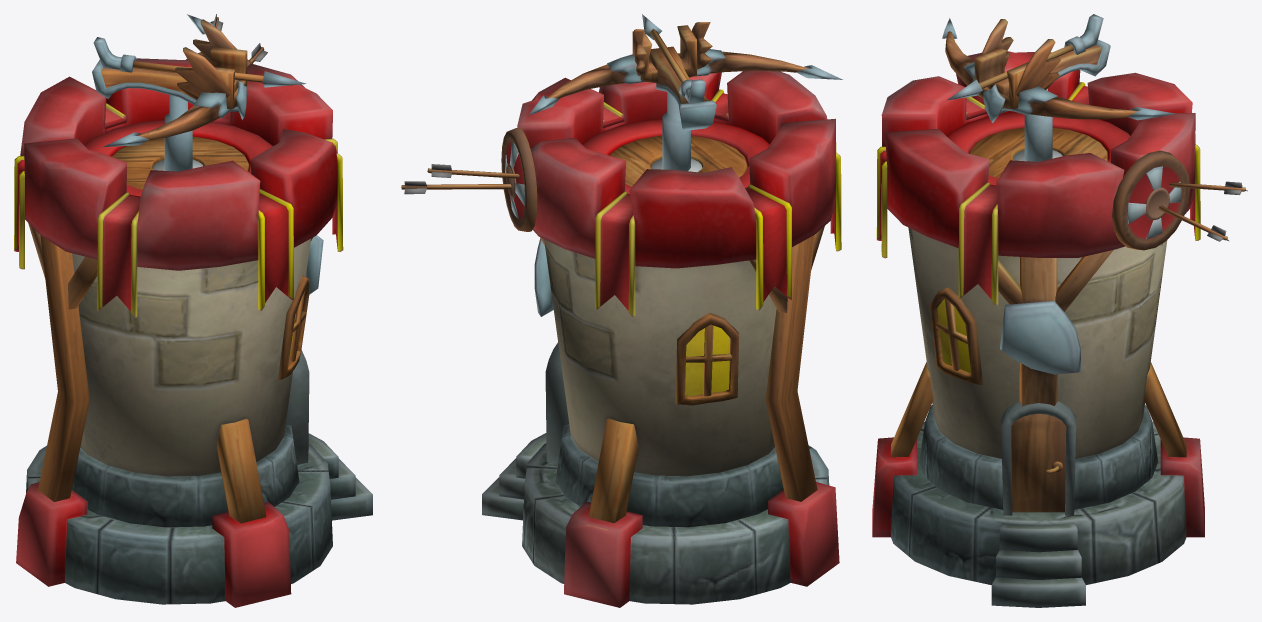
The model's file is MOD_ArcherTower_SinglePiece.fbx.
3 views of the same model, side by side, from view 1: azimuth 30°, elevation 25°; view 2: azimuth 150°, elevation 25°; view 3: azimuth 270°, elevation 25° (orthographic).
Parts seen in each view (by area): view 1: ArcherTower; view 2: ArcherTower; view 3: ArcherTower.
Boxes of the visible parts, x1,y1,x2,y2 form: ArcherTower: (14,14,372,607); ArcherTower: (401,14,842,607); ArcherTower: (872,14,1247,607).
Size of the model in its own units: 331 by 489 by 333.
